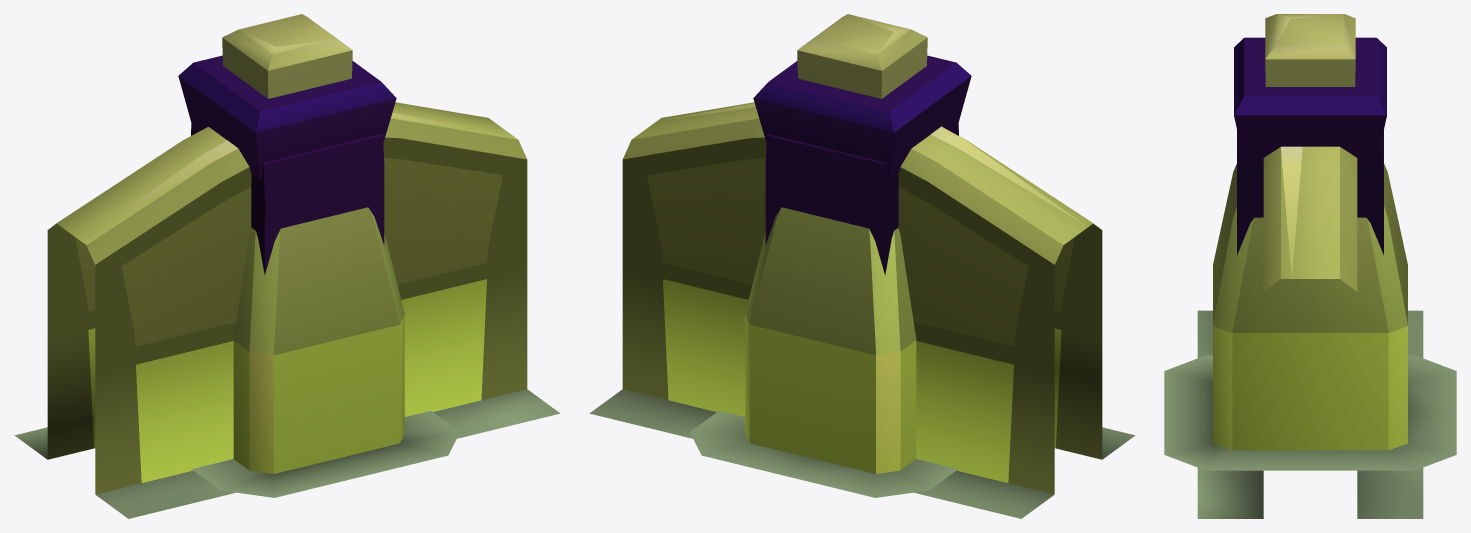
Rendered from Wall_Rework_.fbx.
The picture shows the model from 3 angles, left to right: view 1: azimuth 30°, elevation 25°; view 2: azimuth 150°, elevation 25°; view 3: azimuth 270°, elevation 25°; orthographic projection.
Visible parts, largest first — view 1: Wall_Rework_T1, Wall_Pilar_rev2, Wall2_Rework_T1; view 2: Wall_Rework_T1, Wall_Pilar_rev2, Wall2_Rework_T1; view 3: Wall_Pilar_rev2, Wall_Rework_T1, Wall2_Rework_T1.
Boxes of the visible parts, x1,y1,x2,y2 form: Wall_Rework_T1: (14,102,560,518); Wall_Pilar_rev2: (178,14,459,497); Wall2_Rework_T1: (191,123,384,275); Wall_Rework_T1: (589,102,1135,518); Wall_Pilar_rev2: (690,14,971,497); Wall2_Rework_T1: (765,123,958,275); Wall_Pilar_rev2: (1164,14,1456,470); Wall_Rework_T1: (1197,146,1423,518); Wall2_Rework_T1: (1237,130,1383,254).
Bounding box in the file's own units: 2.68 × 2.31 × 1.59.
